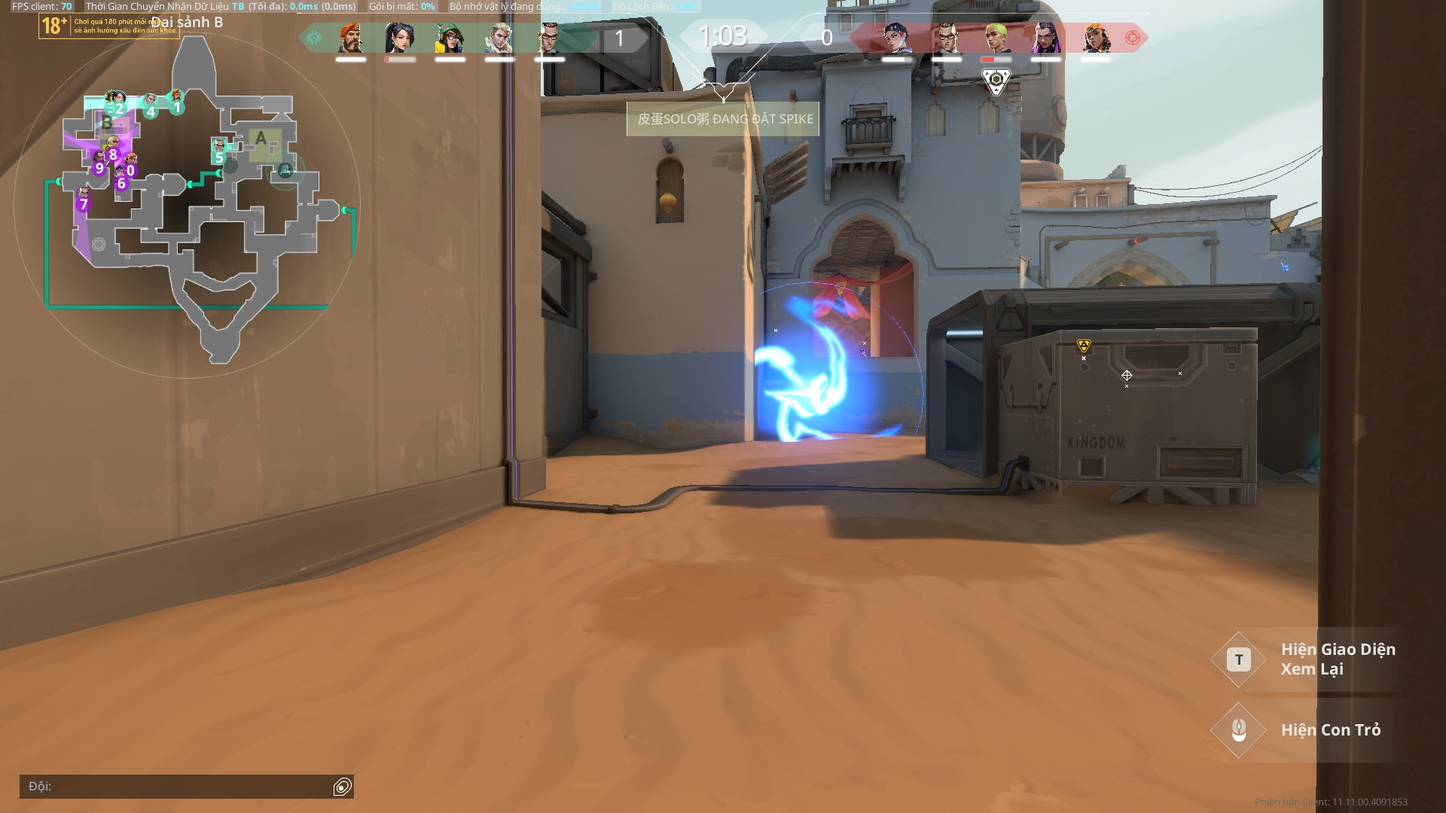body: (857, 353, 868, 358)
head: (860, 348, 865, 354)
